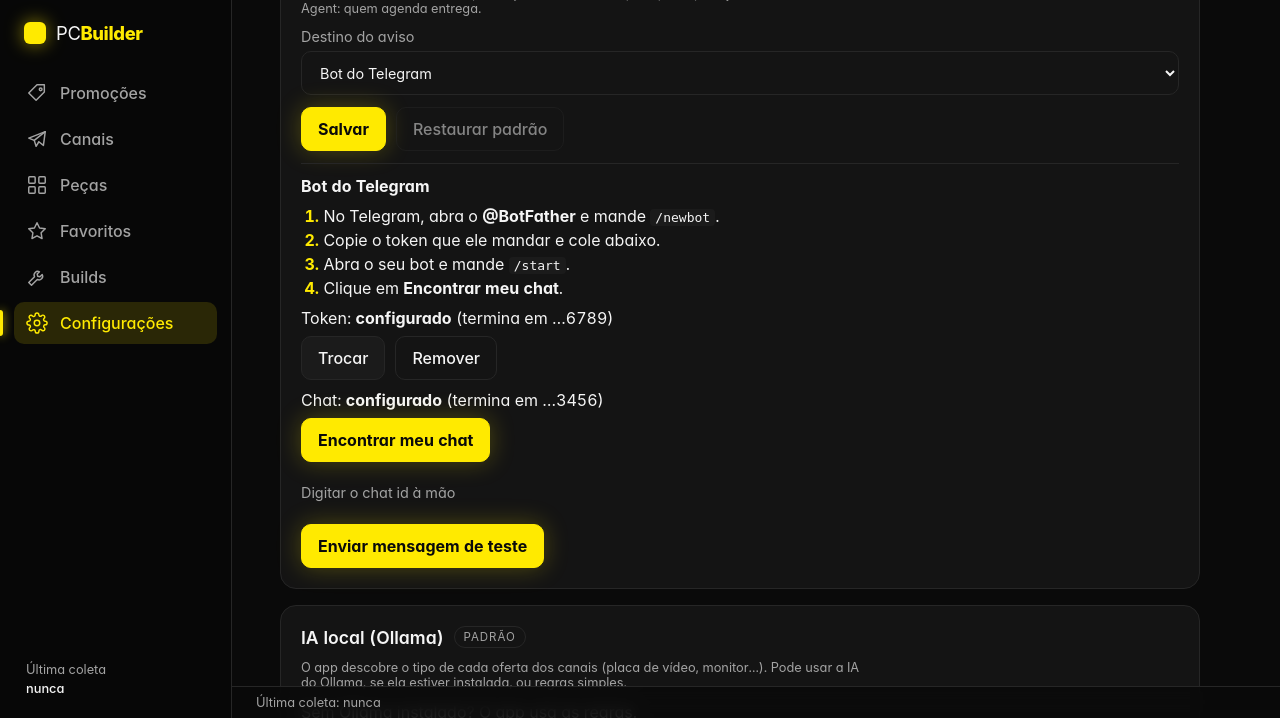
Notificação: bot do Telegram › configurado: mostra só o final, Trocar e Remover com confirmação
The width and height of the screenshot is (1280, 718).
(page scrolled)
Expected: the text "Token: configurado (termina em …6789)" is shown, [301, 308, 614, 328]
Expected: the text "Chat: configurado (termina em …3456)" is shown, [301, 390, 604, 410]
Step 1. Click the button with aria-label "Remover token e chat" → (446, 358), box [395, 336, 497, 380]
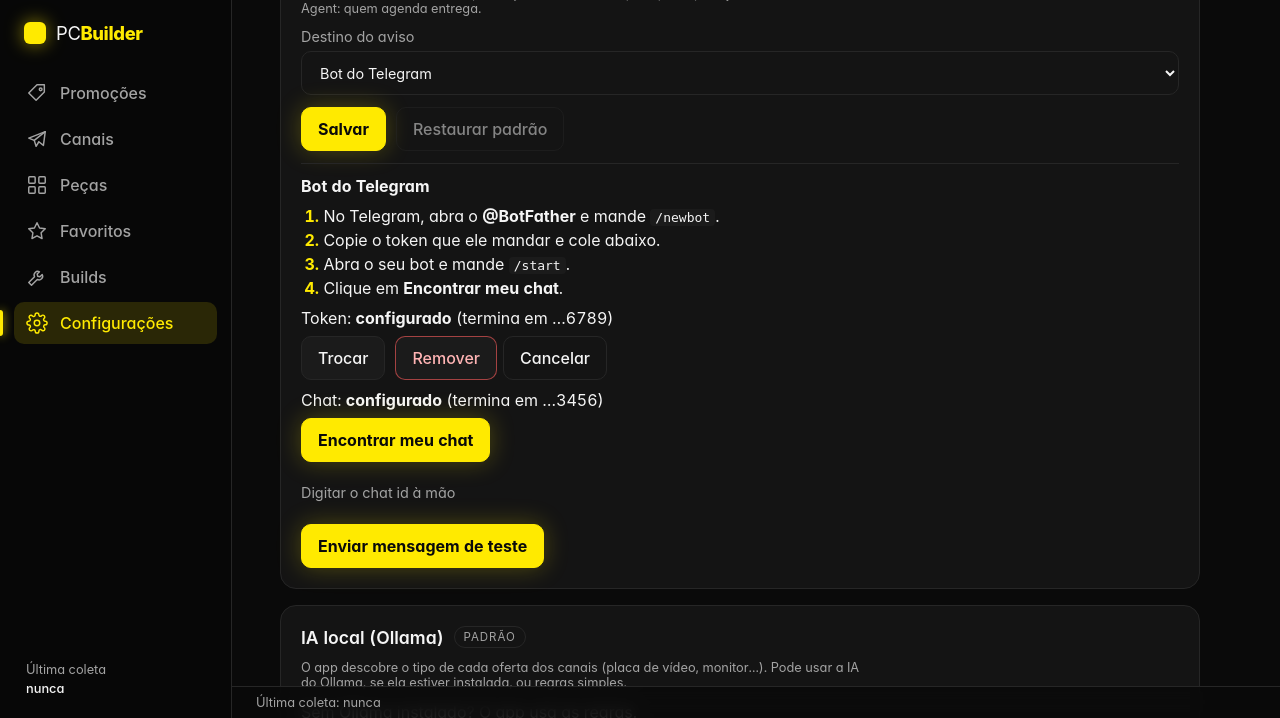
Step 2. Click the button with aria-label "Confirmar: remover token e chat" → (446, 358), box [395, 336, 497, 380]
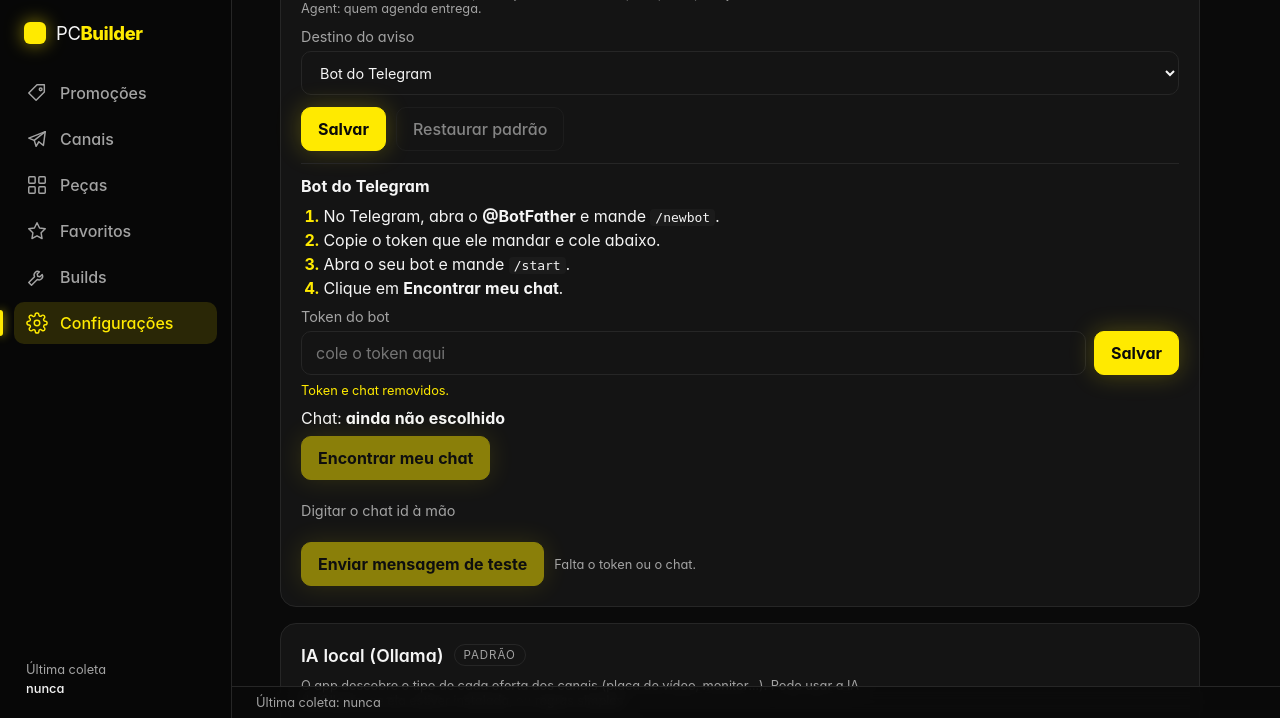
Expected: the password field labelled "Token do bot" is shown, [301, 331, 1086, 375]
